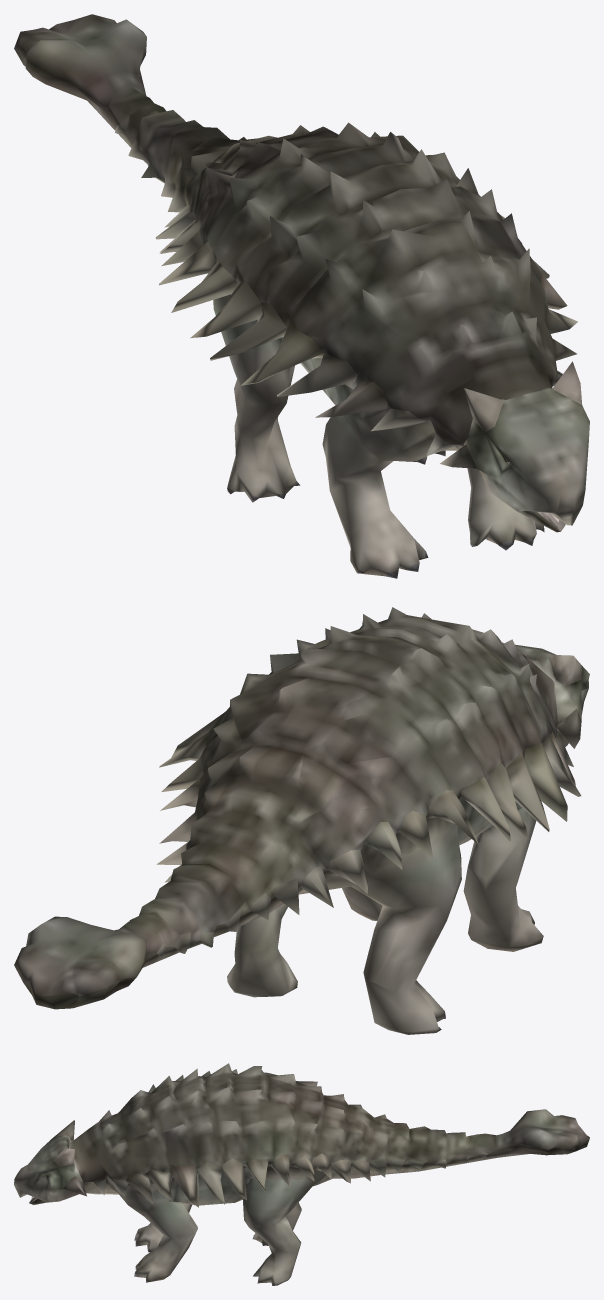
3 renders of one model, top to bottom at view 1: azimuth 30°, elevation 25°; view 2: azimuth 150°, elevation 25°; view 3: azimuth 270°, elevation 25°, orthographic. The views are drawn at different scales.
Visible parts, largest first — view 1: Object_7; view 2: Object_7; view 3: Object_7.
Part boxes in pixels (box(x1,y1,x2,y2)): Object_7: box(14, 14, 589, 578); Object_7: box(14, 607, 589, 1034); Object_7: box(14, 1063, 589, 1285).
Bounding box in the file's own units: 9.04 × 8.67 × 24.47.
1 material, 1 textured.
